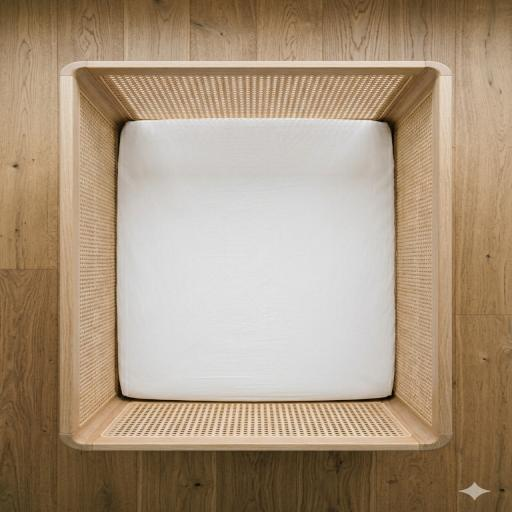crib: (60, 62, 451, 450)
